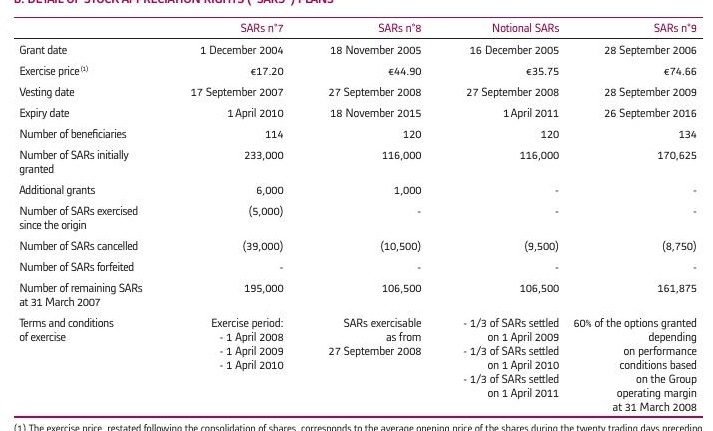table: (0, 0, 713, 431)
